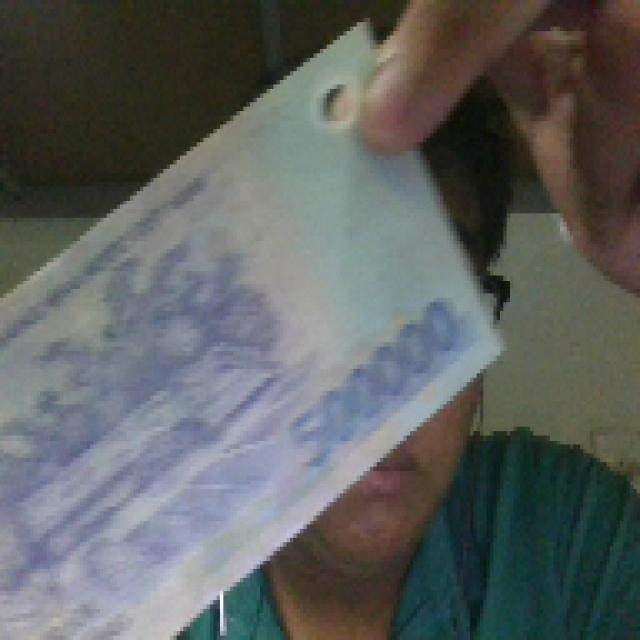500 000 VND: (0, 13, 513, 635)
